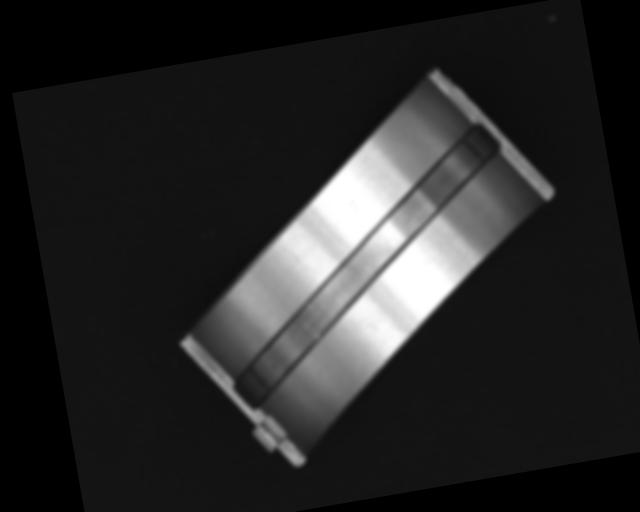gap: (197, 118, 537, 410)
nick: (283, 241, 311, 275)
